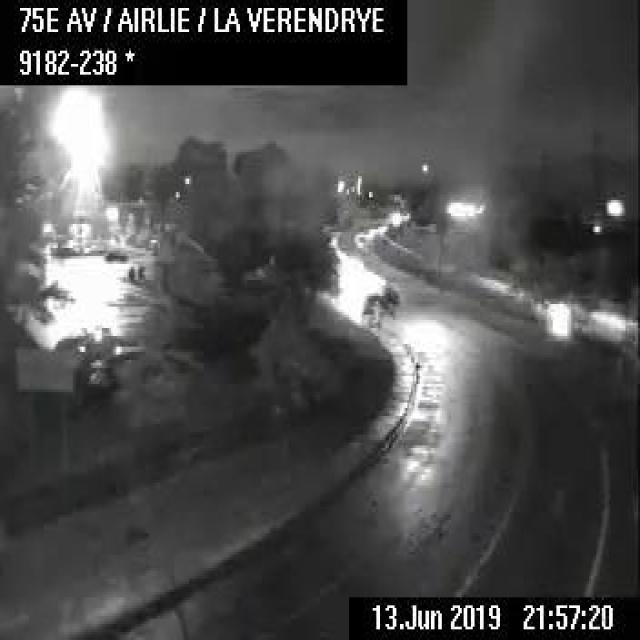vehicle: (103, 243, 126, 261)
